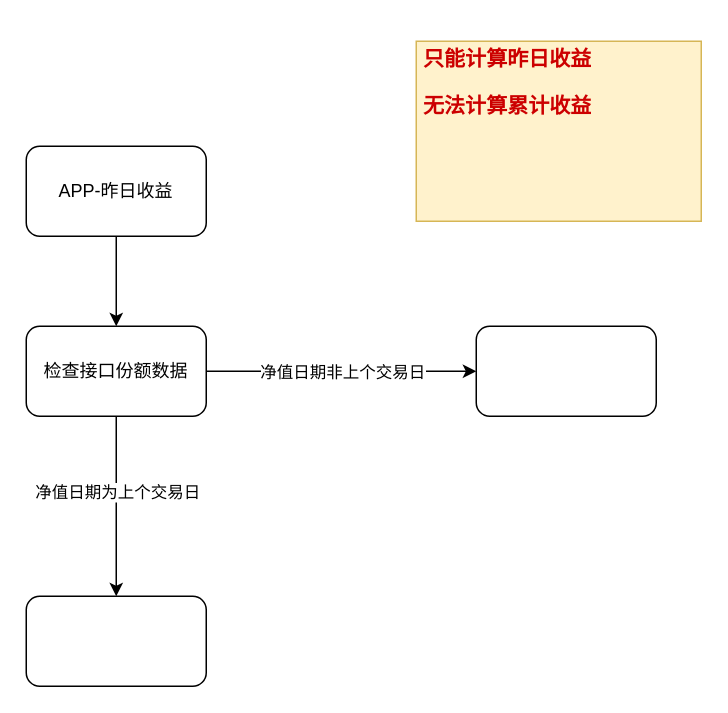
Image size: 728x713. Some labels were removed from this diagram. The centre of each missing label's shape, as x and y in pixels:
"app根据净值数据计算昨日收益" goes at point 565,370.
"显示接口返回的收益" goes at point 115,640.
